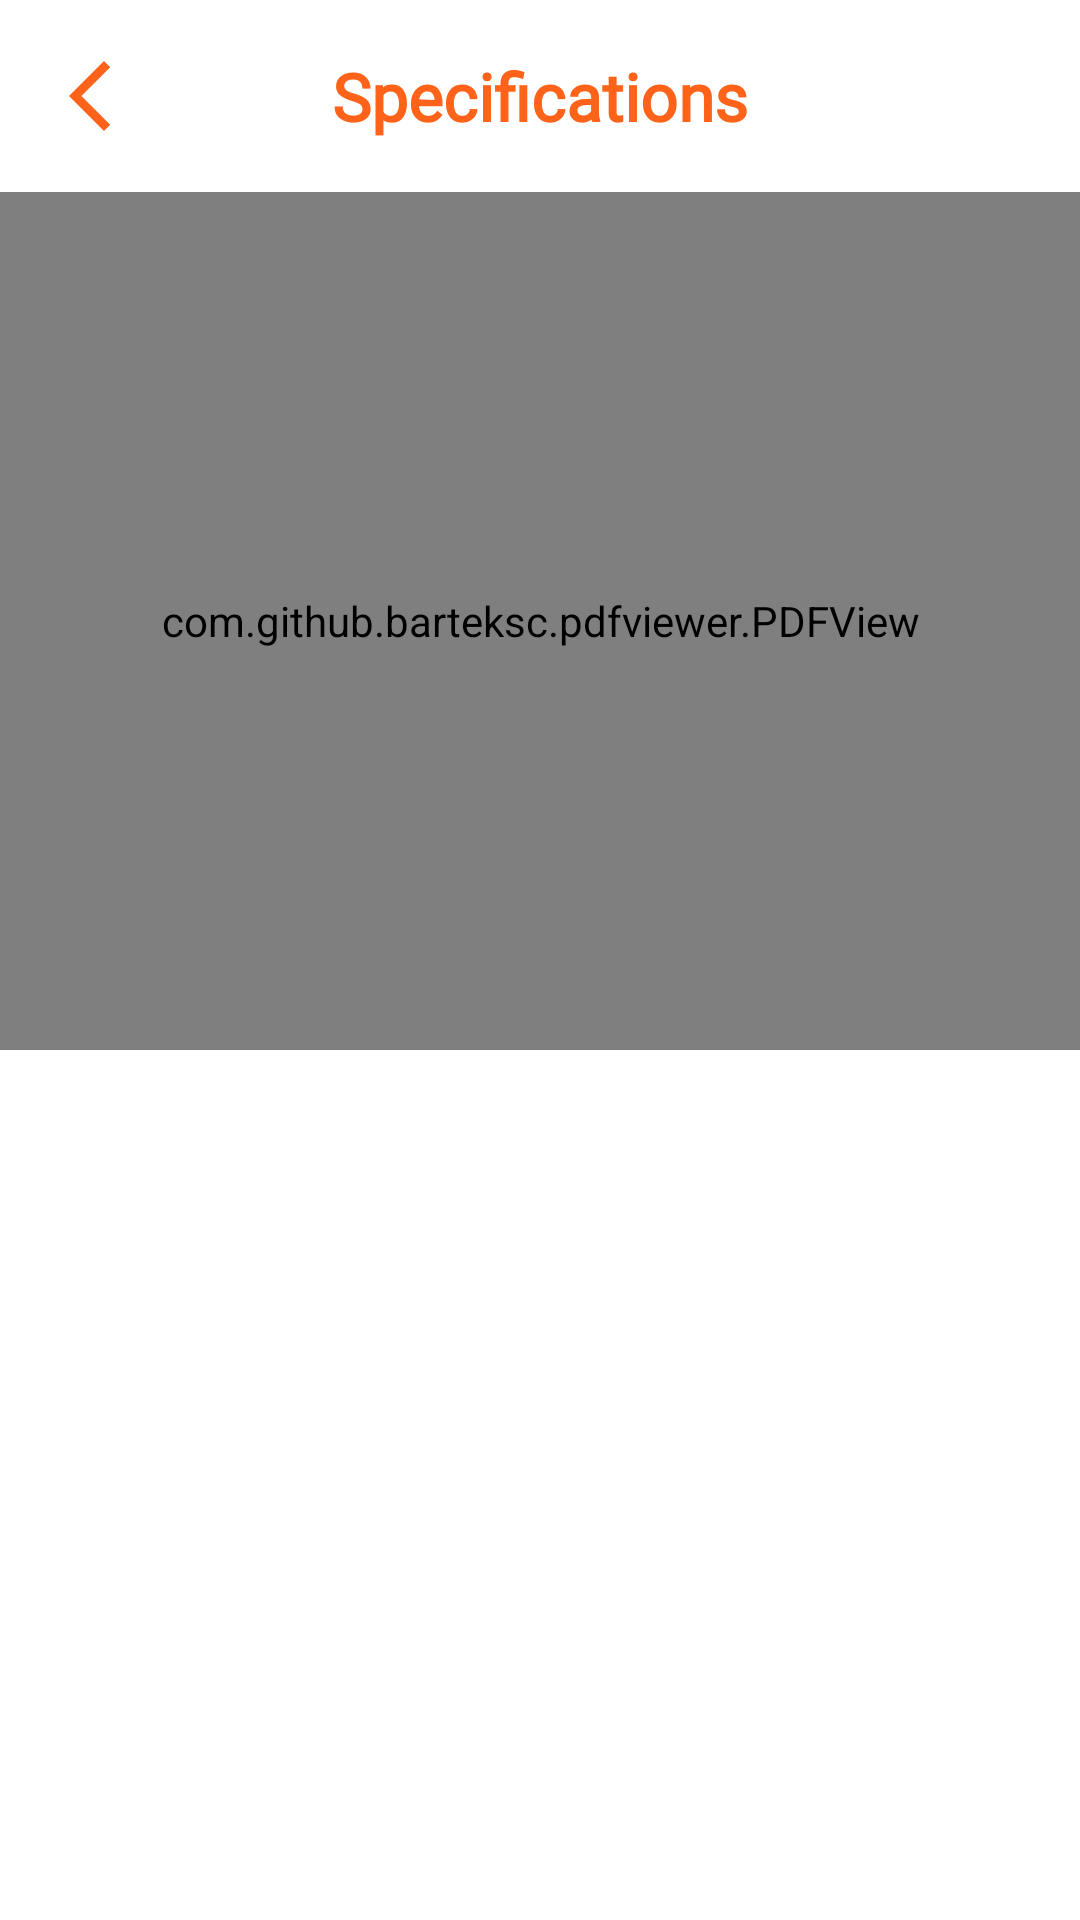

Icon click points for this 1080px×1920px phone screenshot, format (x=x, y=y):
back: (x=89, y=96)
